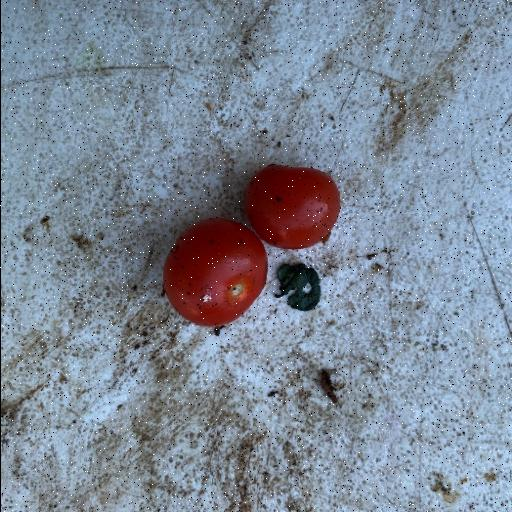Waste: (160, 216, 268, 328), (244, 162, 342, 250), (272, 261, 322, 312)
